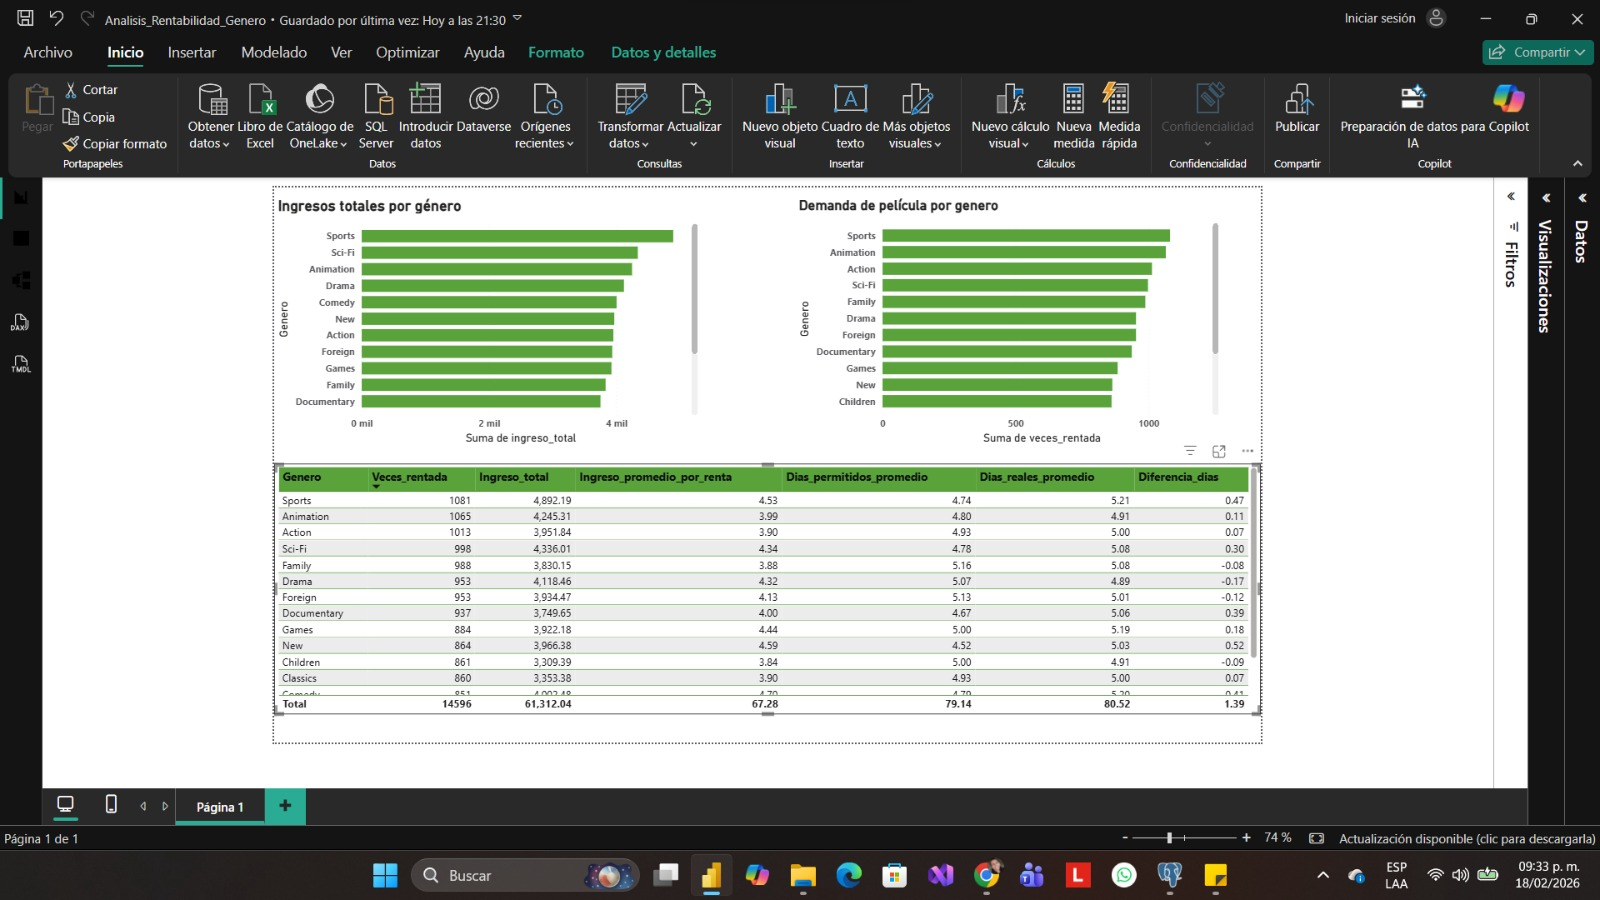

The page's visual inventory and layout, read from the dashboard file:
{"tool":"powerbi","page":{"name":"Página 1","canvas":[1280,720],"ordinal":0},"visuals":[{"type":"clusteredBarChart","title":"Ingresos totales por género","fields":{"Category":["Consulta2.genero"],"Y":["Sum(Consulta2.ingreso_total)"]},"box":[0,12.4,554.8,325.9],"z":0},{"type":"tableEx","fields":{"Values":["Consulta2.genero","Sum(Consulta2.veces_rentada)","Sum(Consulta2.ingreso_total)","Sum(Consulta2.ingreso_promedio_por_renta)","Sum(Consulta2.dias_permitidos_promedio)","Sum(Consulta2.dias_reales_promedio)","Sum(Consulta2.diferencia_dias)"]},"box":[0,358.3,1280,325.9],"z":1000},{"type":"clusteredBarChart","title":"Demanda de película por genero","fields":{"Category":["Consulta2.genero"],"Y":["Sum(Consulta2.veces_rentada)"]},"box":[675.5,12.4,554.8,325.9],"z":2000}]}

Visuals, with their boxes on the page's 1280x720 design canvas (x1, y1, x2, y2). These are canvas units, not pixel positions in the 1600x900 screenshot, which may show the page scaled, cropped or inside an application window:
"Ingresos totales por género" clusteredBarChart: bbox(0, 12, 555, 338)
tableEx - Consulta2.genero x Sum(Consulta2.veces_rentada): bbox(0, 358, 1280, 684)
"Demanda de película por genero" clusteredBarChart: bbox(676, 12, 1230, 338)
